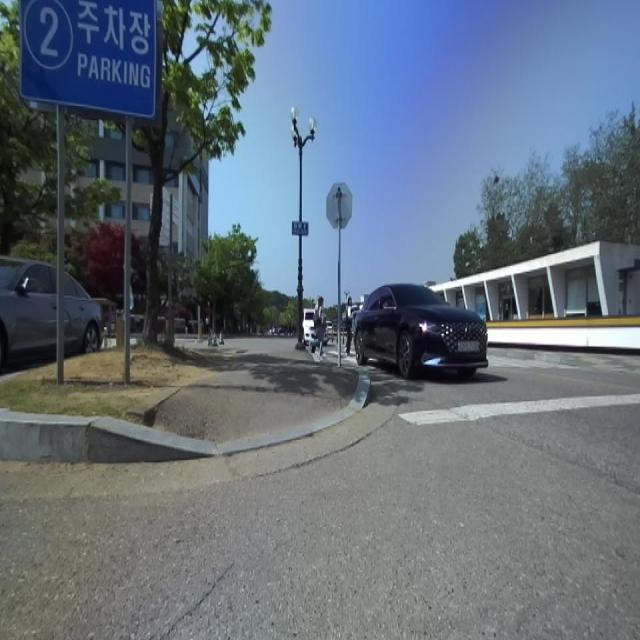sidewalk: (154, 348, 358, 443), (488, 347, 640, 373)
